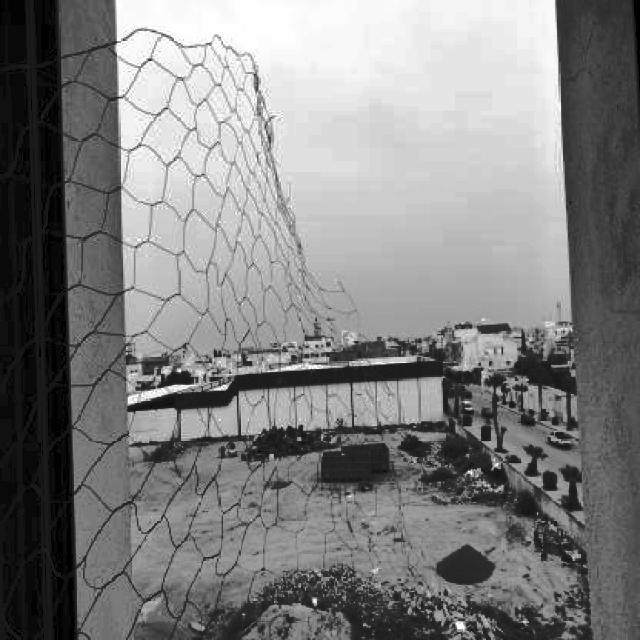anomaly-fence: (223, 24, 590, 602)
